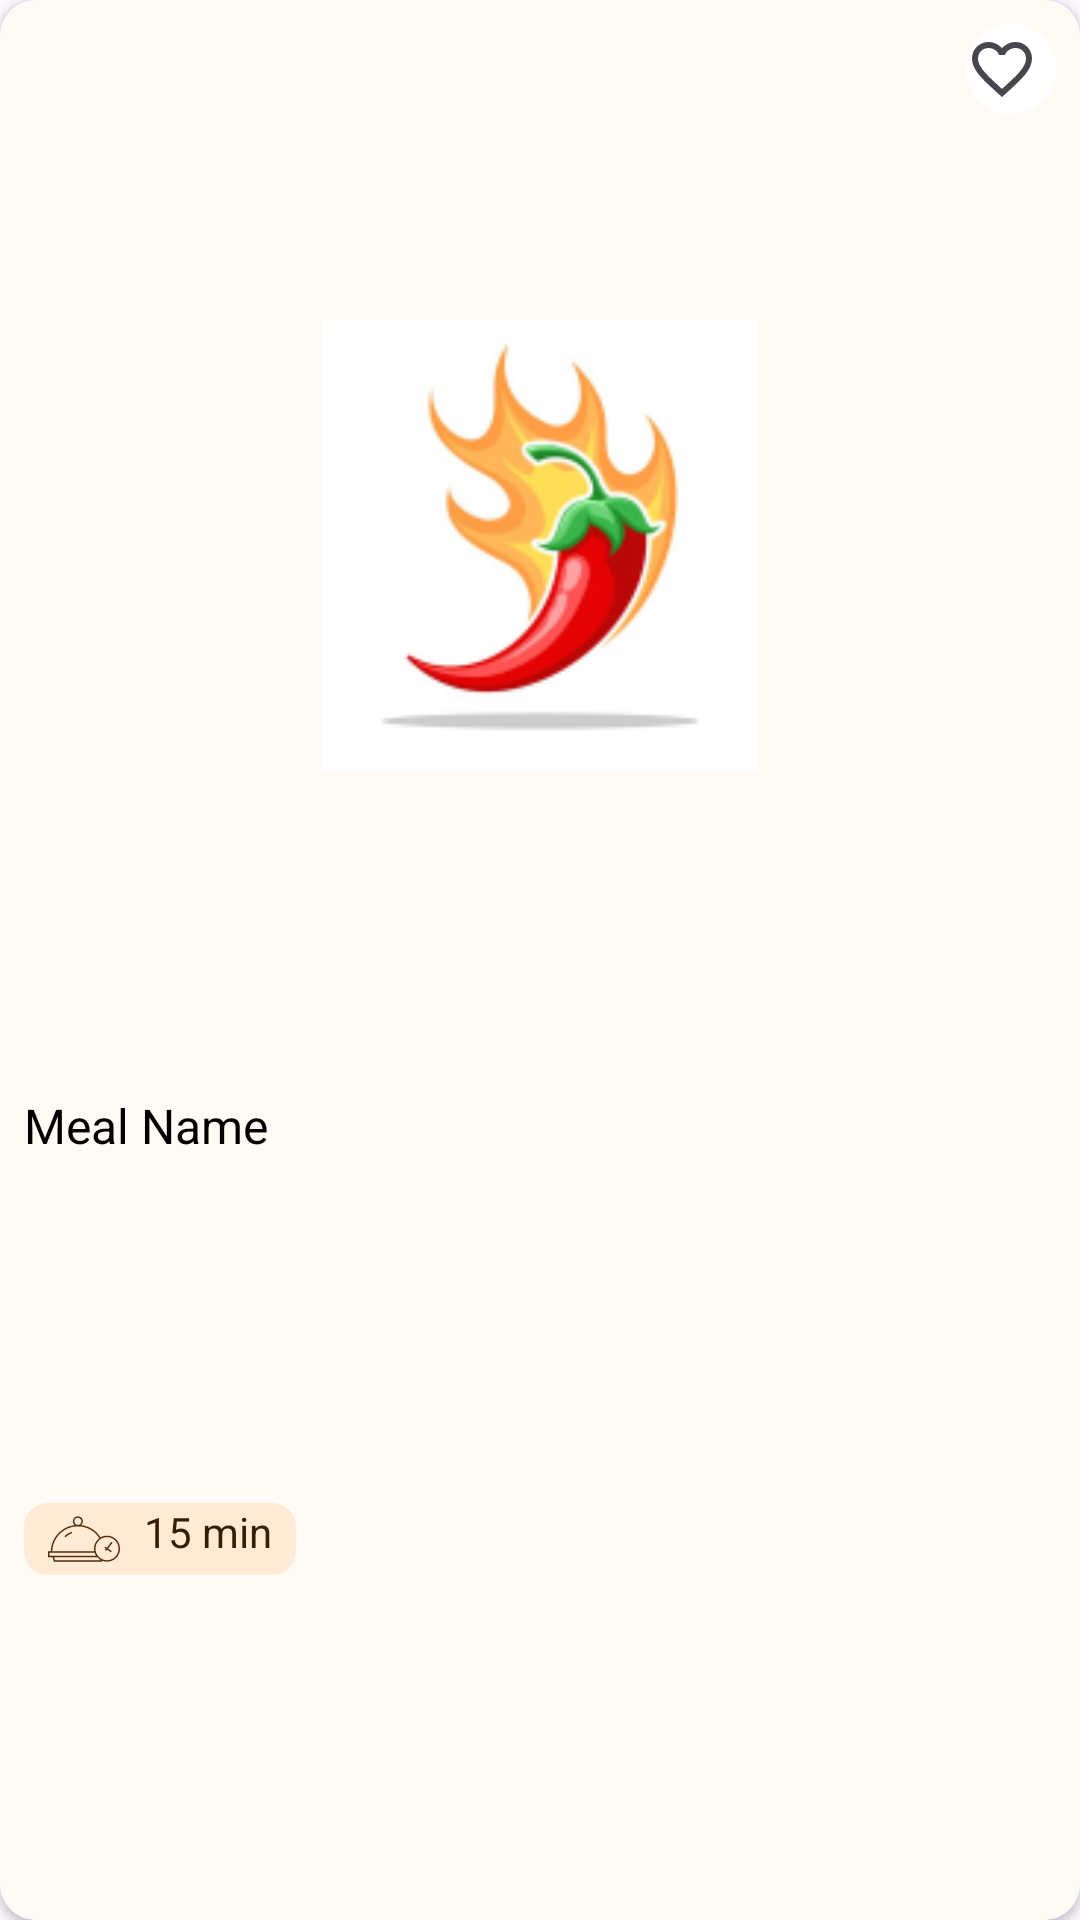

Point at icon controls on the screen. Image size 1080px×1920px, points as [x,y].
heart: [1011,69]
